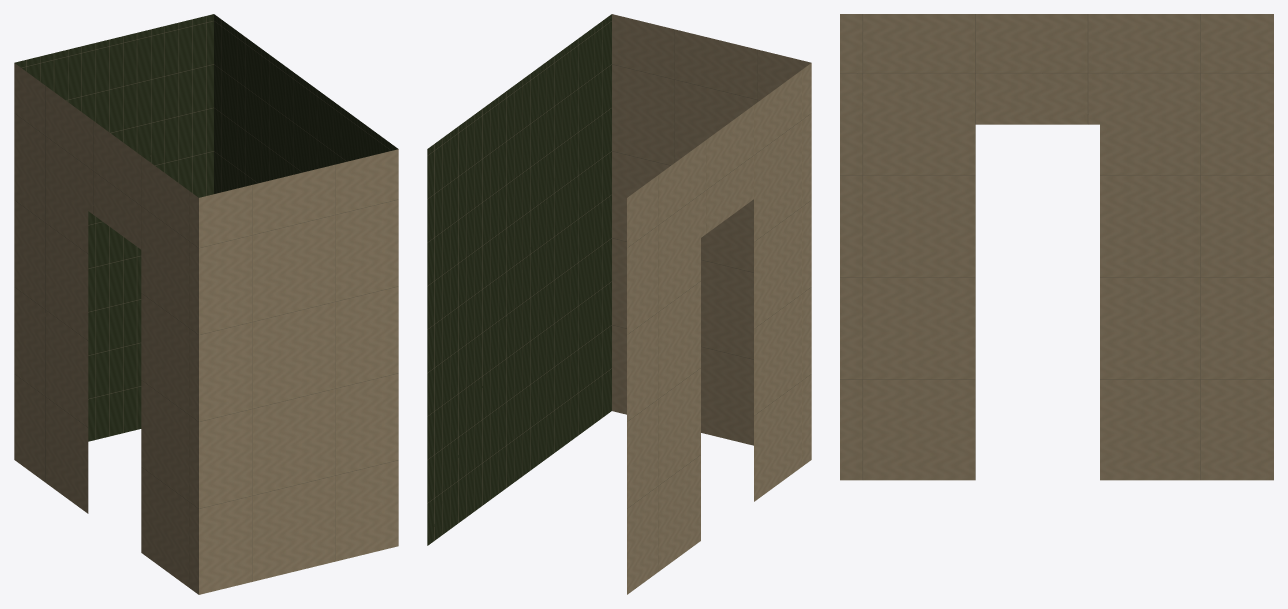
Rendered from r_toilet1-lining.glb.
The picture shows the model from 3 angles, left to right: view 1: azimuth 30°, elevation 25°; view 2: azimuth 150°, elevation 25°; view 3: azimuth 270°, elevation 25°; orthographic projection. The views are drawn at different scales.
Parts seen in each view (by area): view 1: bath-warm-stone wall, bath-olive-kitkat wall; view 2: bath-warm-stone wall, bath-olive-kitkat wall; view 3: bath-warm-stone wall.
Boxes of the visible parts, x1=… form: bath-warm-stone wall: x1=14, y1=63, x2=398, y2=594; bath-olive-kitkat wall: x1=14, y1=14, x2=398, y2=441; bath-warm-stone wall: x1=612, y1=14, x2=811, y2=594; bath-olive-kitkat wall: x1=427, y1=14, x2=611, y2=545; bath-warm-stone wall: x1=840, y1=14, x2=1273, y2=480.
Size of the model in its own units: 1.44 by 2.74 by 2.31.
2 materials, 2 textured.
